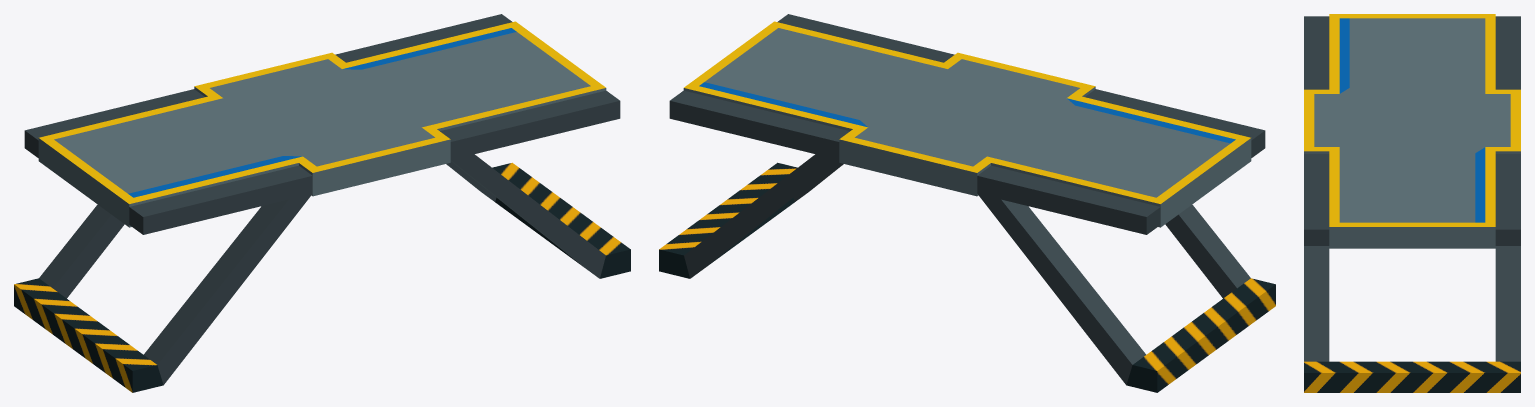
The model's file is Desk_004.fbx.
3 views of the same model, side by side, from view 1: azimuth 30°, elevation 25°; view 2: azimuth 150°, elevation 25°; view 3: azimuth 270°, elevation 25° (orthographic). The views are drawn at different scales.
Visible parts, largest first — view 1: Desk_004; view 2: Desk_004; view 3: Desk_004.
Part boxes in pixels (x1,y1,x2,y2): Desk_004: [14, 14, 630, 392]; Desk_004: [659, 14, 1275, 392]; Desk_004: [1304, 14, 1520, 392].
Size of the model in its own units: 255 by 105 by 86.17.
